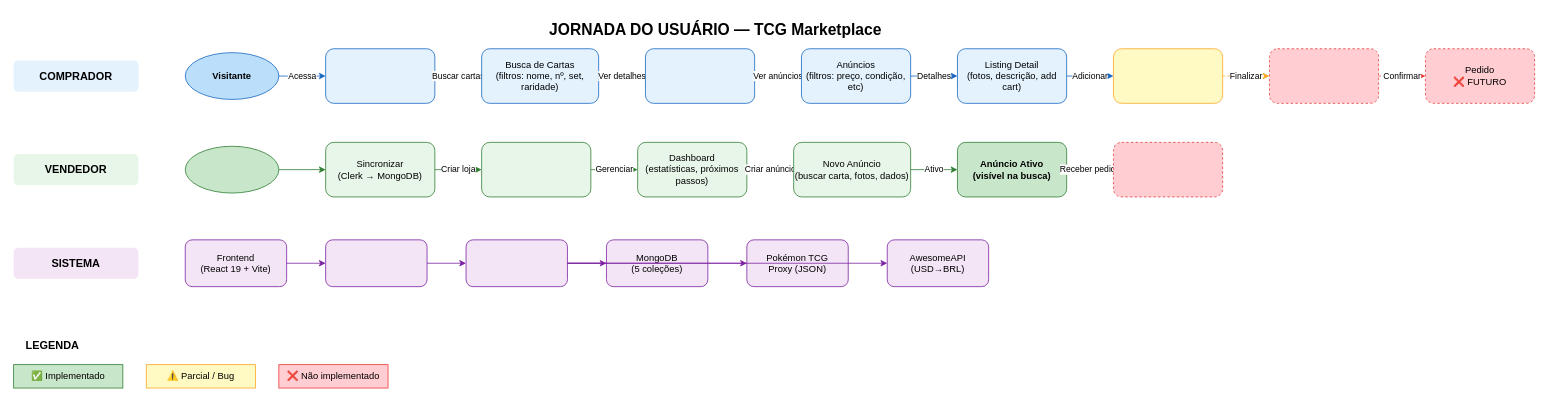
The diagram is 1548 pixels wide and 402 high, and some of its shapes have lost their labels. The box of each missing label's shape, as (x1, y1, x2, y2) in pixels:
Card Detail (preços ref. BRL, info): (645, 48, 755, 103)
Carrinho (agrupado por loja): (1113, 48, 1223, 103)
Checkout ❌ STUB: (1269, 48, 1379, 103)
Clerk Auth (JWT): (325, 239, 427, 287)
Criar Loja (nome, slug, localização): (481, 142, 591, 197)
Express API (porta 3001): (465, 239, 567, 287)
Gerenciar Pedido ❌ FUTURO: (1113, 142, 1223, 197)
Home / Landing Page: (325, 48, 435, 103)
Login / Criar Conta: (184, 145, 279, 193)
